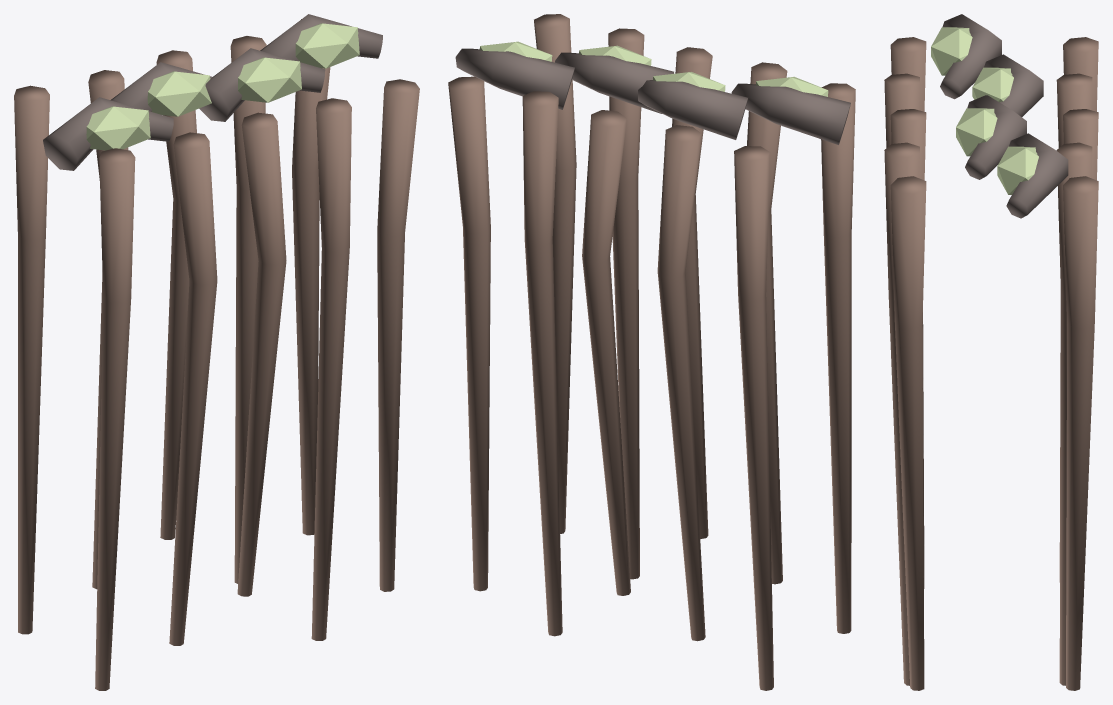
Rendered from world_dungeon_roots.fbx.
The picture shows the model from 3 angles, left to right: view 1: azimuth 30°, elevation 25°; view 2: azimuth 150°, elevation 25°; view 3: azimuth 270°, elevation 25°; orthographic projection.
Visible parts, largest first — view 1: world_dungeon_roots_mesh; view 2: world_dungeon_roots_mesh; view 3: world_dungeon_roots_mesh.
Part boxes in pixels (x1,y1,x2,y2): world_dungeon_roots_mesh: (14,14,419,690); world_dungeon_roots_mesh: (448,14,855,690); world_dungeon_roots_mesh: (884,14,1098,690).
Size of the model in its own units: 1.02 by 1.5 by 0.5155.
